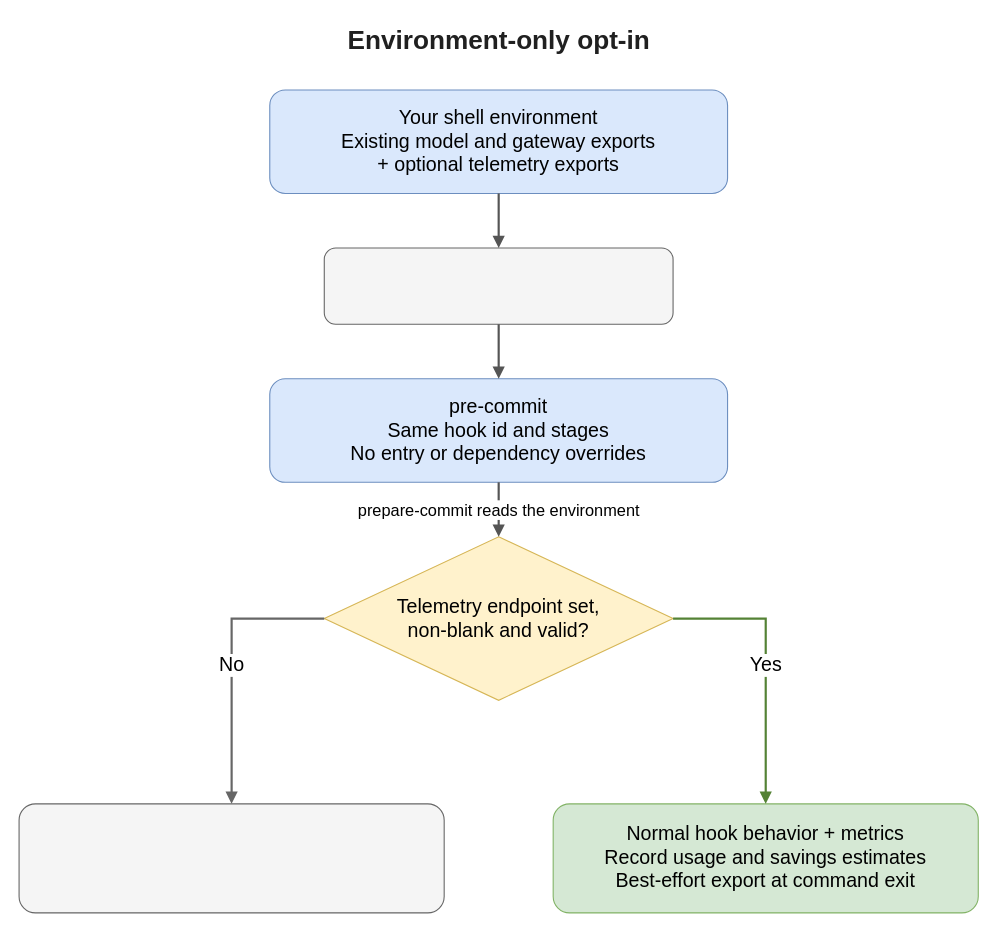
Some shapes in this 997 by 932 pixel diagram are drawn without their labels. Each missing label, with the box of its shape:
git commit Inherits exported variables: (323, 247, 673, 324)
Normal hook behavior No telemetry initialization No telemetry export: (18, 803, 444, 913)
